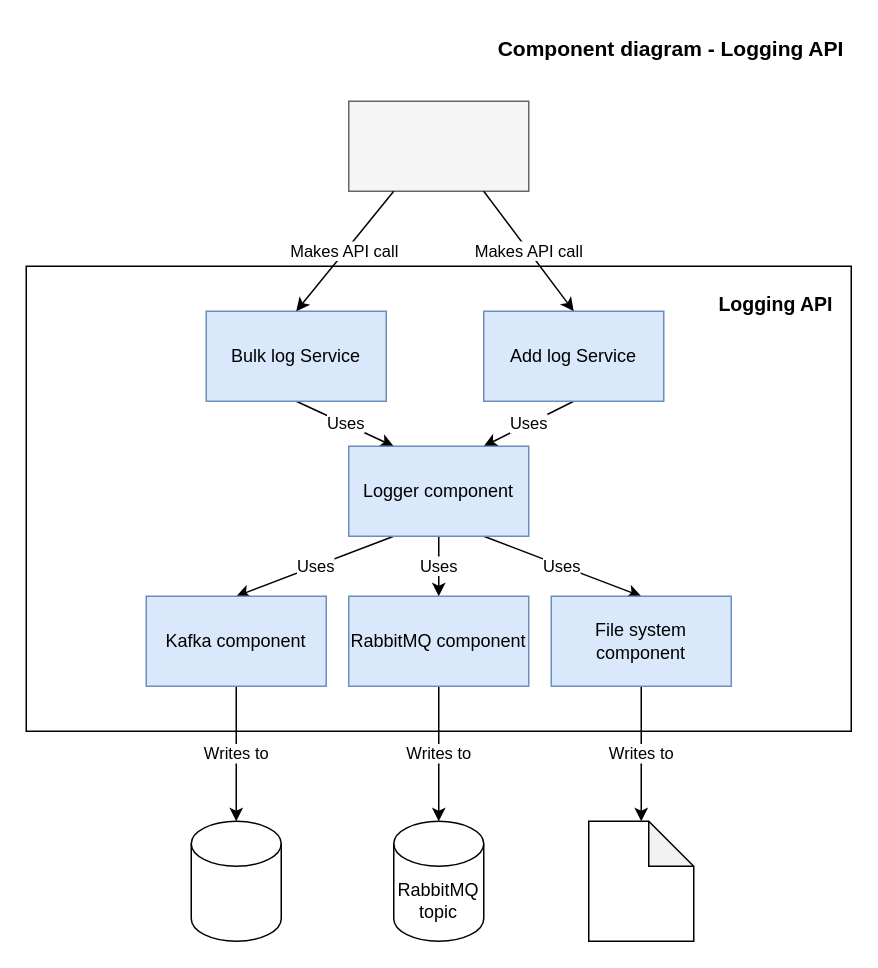
This 878x968 diagram has some shape labels left out. Each missing label, with the centre of its shape:
"External system" belongs at pixel 438 145.
"File system" belongs at pixel 640 880.
"Kafka topic" belongs at pixel 235 880.
